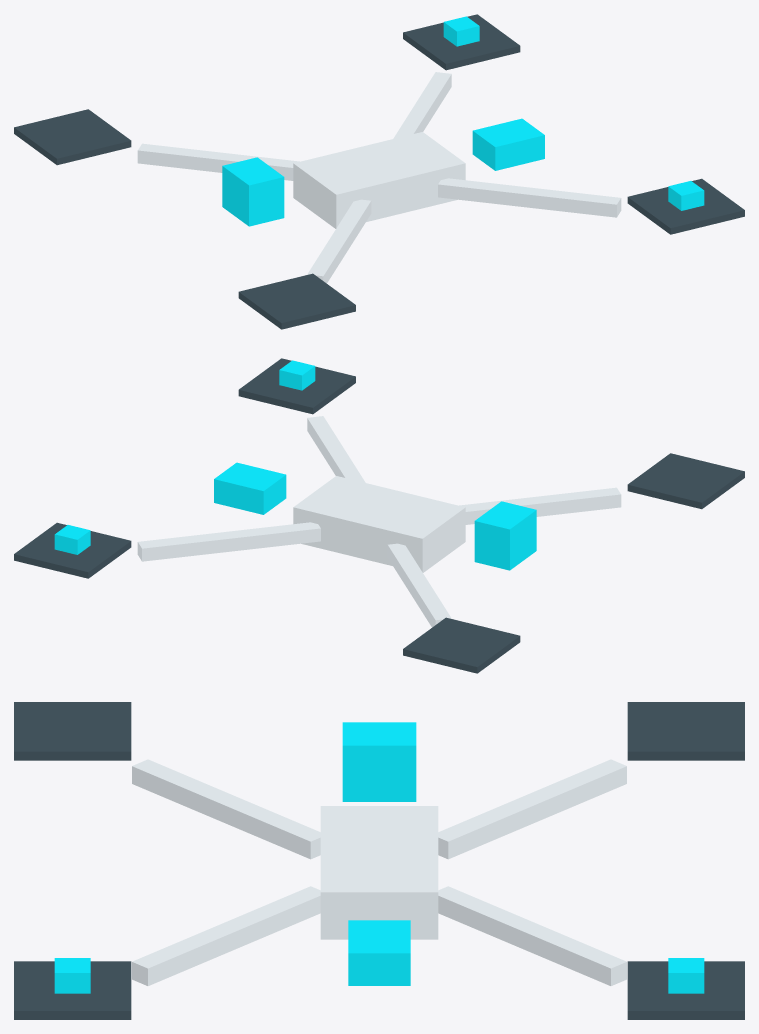
The model's file is uav.gltf.
3 renders of one model, top to bottom at view 1: azimuth 30°, elevation 25°; view 2: azimuth 150°, elevation 25°; view 3: azimuth 270°, elevation 25°, orthographic. The views are drawn at different scales.
Parts seen in each view (by area): view 1: Body, Rear right rotor, Rear left rotor, Front left arm, Tail, Front right rotor, Front left rotor, Forward marker, Rear right arm, Rear left arm, Front right arm, Front right hub (+1 smaller); view 2: Body, Rear left rotor, Rear right rotor, Front right arm, Tail, Front left rotor, Front right rotor, Forward marker, Rear left arm, Rear right arm, Front left arm, Front left hub (+1 smaller); view 3: Body, Rear left rotor, Rear right rotor, Tail, Front left arm, Front right arm, Rear left arm, Rear right arm, Front left rotor, Front right rotor, Forward marker, Front left hub (+1 smaller).
Part boxes in pixels (x1=…): Body: x1=293, y1=132, x2=465, y2=228; Rear right rotor: x1=14, y1=109, x2=131, y2=165; Rear left rotor: x1=238, y1=273, x2=355, y2=329; Front left arm: x1=438, y1=178, x2=621, y2=217; Tail: x1=222, y1=157, x2=284, y2=226; Front right rotor: x1=403, y1=14, x2=520, y2=70; Front left rotor: x1=627, y1=178, x2=744, y2=234; Forward marker: x1=472, y1=118, x2=544, y2=170; Rear right arm: x1=137, y1=143, x2=299, y2=180; Rear left arm: x1=307, y1=199, x2=371, y2=283; Front right arm: x1=393, y1=72, x2=451, y2=138; Front right hub: x1=443, y1=16, x2=479, y2=46; Body: x1=293, y1=476, x2=465, y2=572; Rear left rotor: x1=627, y1=453, x2=744, y2=509; Rear right rotor: x1=403, y1=617, x2=520, y2=673; Front right arm: x1=137, y1=522, x2=320, y2=561; Tail: x1=474, y1=501, x2=536, y2=570; Front left rotor: x1=238, y1=358, x2=355, y2=414; Front right rotor: x1=14, y1=522, x2=131, y2=578; Forward marker: x1=214, y1=462, x2=286, y2=514; Rear left arm: x1=459, y1=487, x2=621, y2=524; Rear right arm: x1=387, y1=543, x2=451, y2=627; Front left arm: x1=307, y1=416, x2=365, y2=482; Front left hub: x1=279, y1=360, x2=315, y2=390; Body: x1=320, y1=806, x2=438, y2=939; Rear left rotor: x1=14, y1=702, x2=131, y2=760; Rear right rotor: x1=627, y1=702, x2=744, y2=760; Tail: x1=342, y1=722, x2=416, y2=801; Front left arm: x1=132, y1=886, x2=320, y2=985; Front right arm: x1=438, y1=886, x2=626, y2=985; Rear left arm: x1=132, y1=759, x2=320, y2=859; Rear right arm: x1=438, y1=759, x2=626, y2=859; Front left rotor: x1=14, y1=961, x2=131, y2=1019; Front right rotor: x1=627, y1=961, x2=744, y2=1019; Forward marker: x1=348, y1=920, x2=410, y2=985; Front left hub: x1=54, y1=958, x2=90, y2=993.
Size of the model in its own units: 4.48 by 0.53 by 4.48.
